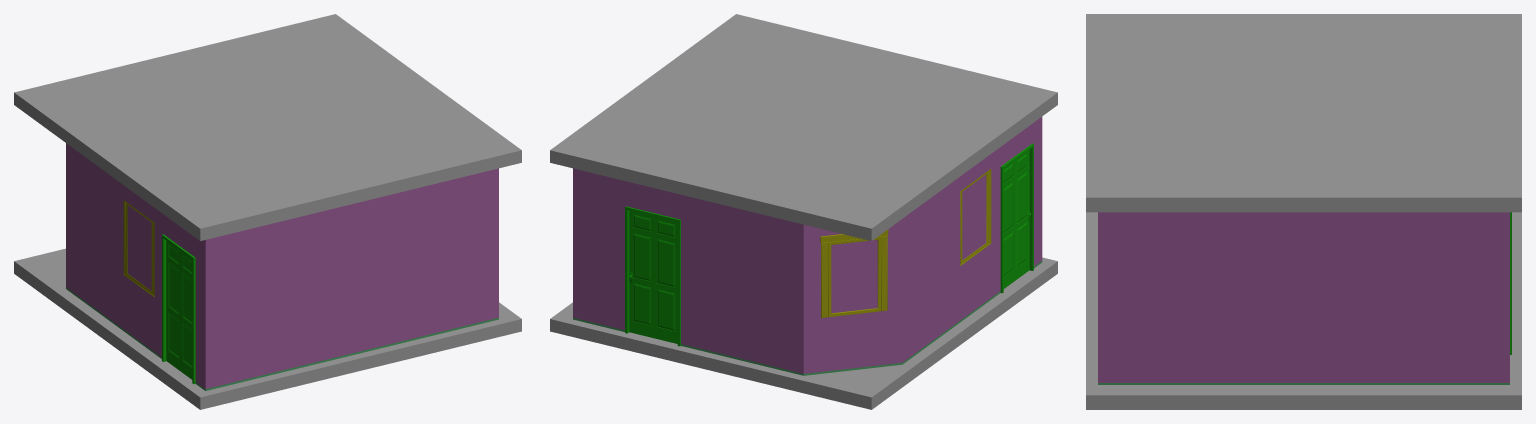
Rendered from FloorPlan6_physics.fbx.
The picture shows the model from 3 angles, left to right: view 1: azimuth 30°, elevation 25°; view 2: azimuth 150°, elevation 25°; view 3: azimuth 270°, elevation 25°; orthographic projection. The views are drawn at different scales.
Visible parts, largest first — view 1: Ceiling, StandardWallSize, Floor, StandardDoor1 (2), WindowGlass, StandardDoorFrame1 (2), StandardWindow1 (2); view 2: Ceiling, StandardWallSize, Floor, StandardDoor1, WindowGlass, StandardDoor1 (2), StandardDoorFrame1, WindowTreatment1, StandardDoorFrame1 (2), StandardWindow1, StandardWindow1 (2); view 3: Ceiling, StandardWallSize, Floor.
Boxes of the visible parts, x1,y1,x2,y2 form: Ceiling: [14, 14, 521, 241]; StandardWallSize: [66, 143, 498, 390]; Floor: [14, 248, 521, 409]; StandardDoor1 (2): [166, 241, 192, 379]; WindowGlass: [127, 205, 151, 290]; StandardDoorFrame1 (2): [162, 234, 195, 383]; StandardWindow1 (2): [126, 202, 153, 295]; Ceiling: [550, 14, 1057, 241]; StandardWallSize: [573, 117, 1042, 375]; Floor: [550, 257, 1057, 409]; StandardDoor1: [629, 210, 677, 343]; WindowGlass: [831, 174, 986, 313]; StandardDoor1 (2): [1003, 150, 1029, 288]; StandardDoorFrame1: [625, 206, 680, 346]; WindowTreatment1: [820, 229, 888, 317]; StandardDoorFrame1 (2): [1000, 143, 1033, 293]; StandardWindow1: [828, 236, 881, 317]; StandardWindow1 (2): [960, 171, 988, 264]; Ceiling: [1086, 14, 1521, 212]; StandardWallSize: [1098, 212, 1509, 384]; Floor: [1086, 212, 1521, 409].
Size of the model in its own units: 539 by 290 by 540.
